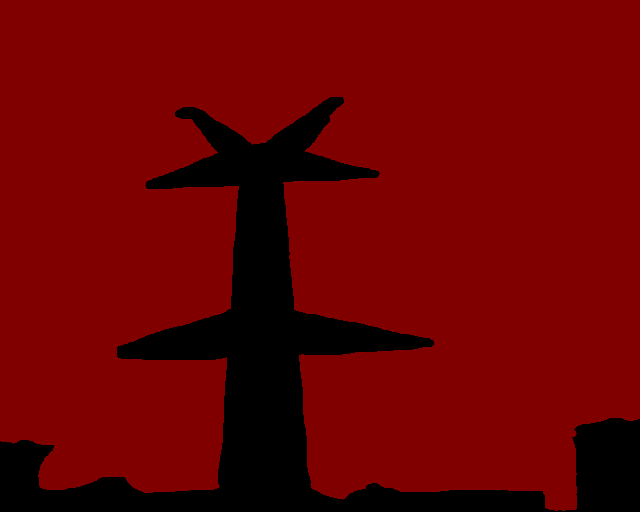Sky: (1, 1, 639, 510)
